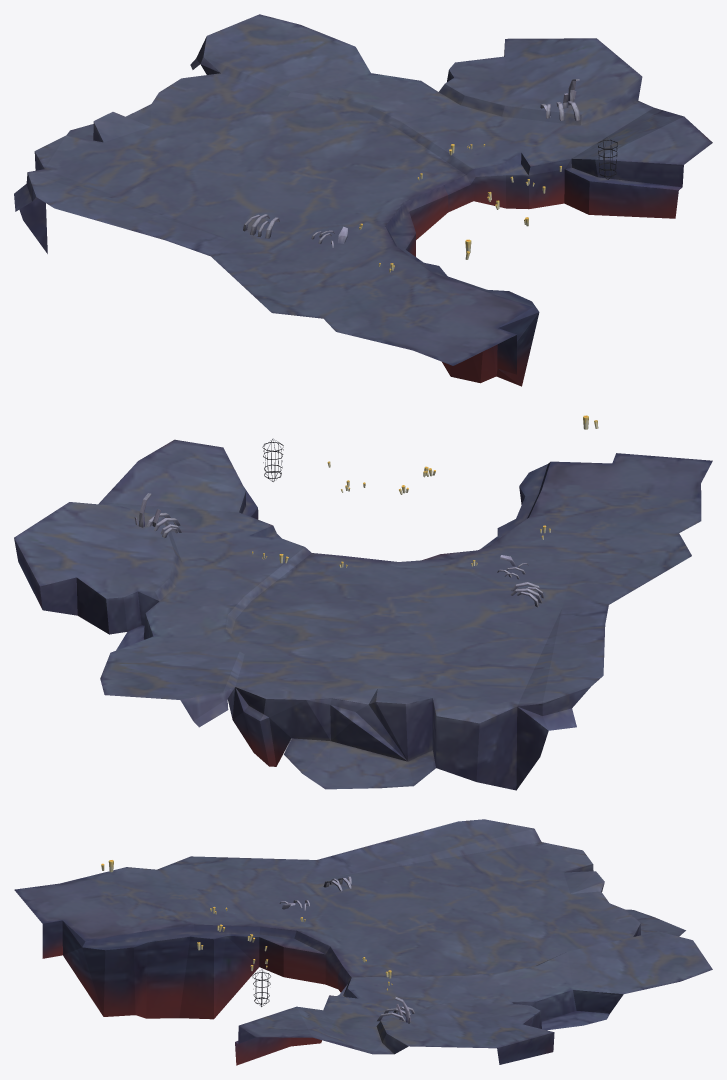
Rendered from Area04_2.fbx.
3 views of the same model, one above another, from view 1: azimuth 30°, elevation 25°; view 2: azimuth 150°, elevation 25°; view 3: azimuth 270°, elevation 25° (orthographic). The views are drawn at different scales.
Visible parts, largest first — view 1: Area04_2; view 2: Area04_2; view 3: Area04_2.
Boxes of the visible parts, x1,y1,x2,y2 form: Area04_2: (14, 14, 712, 386); Area04_2: (14, 415, 712, 790); Area04_2: (14, 819, 712, 1065).
Size of the model in its own units: 5339 by 1516 by 6476.
